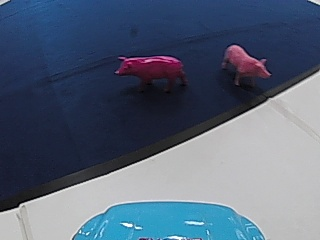pig: (116, 51, 189, 92), (221, 41, 269, 88)
